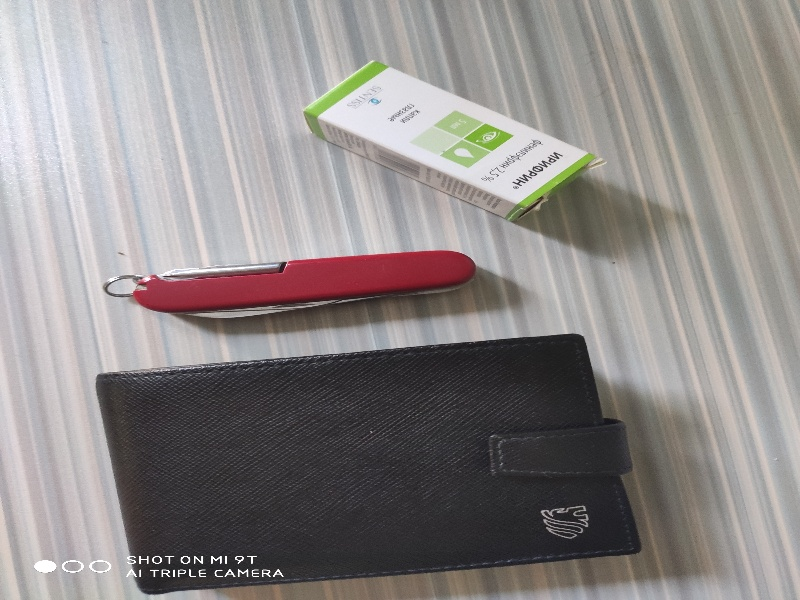ifrin: (301, 55, 605, 221)
knife: (118, 255, 478, 321)
wallet: (85, 351, 656, 600)
